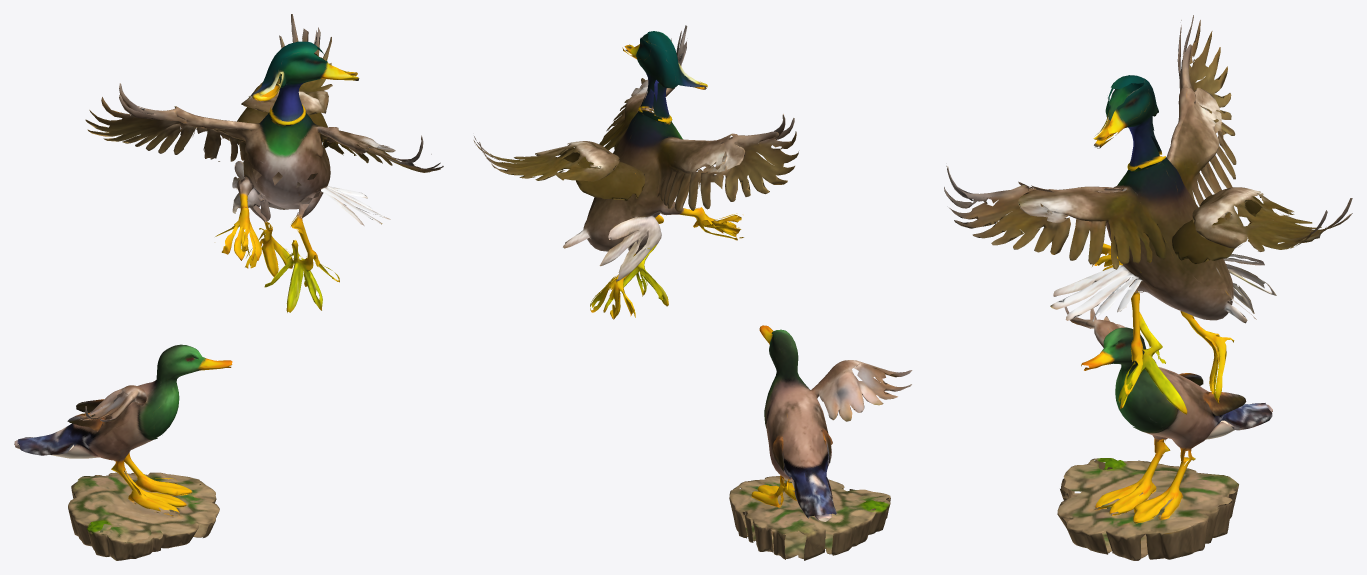
File: critter_duck.glb
3 renders of one model, left to right at view 1: azimuth 30°, elevation 25°; view 2: azimuth 150°, elevation 25°; view 3: azimuth 270°, elevation 25°, orthographic. The views are drawn at different scales.
Parts seen in each view (by area): view 1: world; view 2: world; view 3: world.
Part boxes in pixels (<box>): world: <box>14,14,443,560</box>; world: <box>473,25,912,560</box>; world: <box>944,15,1352,560</box>.
Bounding box in the file's own units: 0.8003 × 1 × 0.6853.
Materials: 1 (1 with a texture image).
